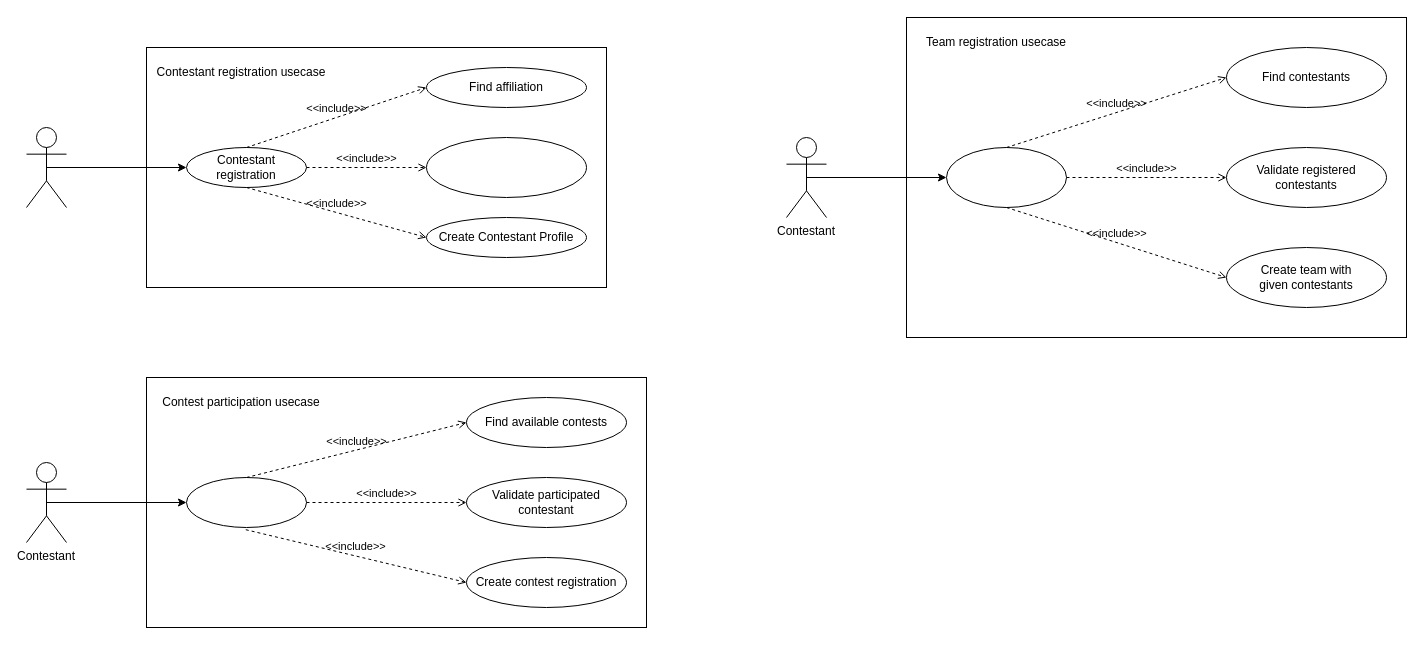
The diagram is 1424 pixels wide and 645 high, and some of its shapes have lost their labels. Here are the shapes that lost their labels. From the top down, the centre of each, then its label:
At (x=46, y=167): "User".
At (x=506, y=167): "Validate email, username and student ID".
At (x=1006, y=177): "Team Registration".
At (x=246, y=502): "Contest Participation".
